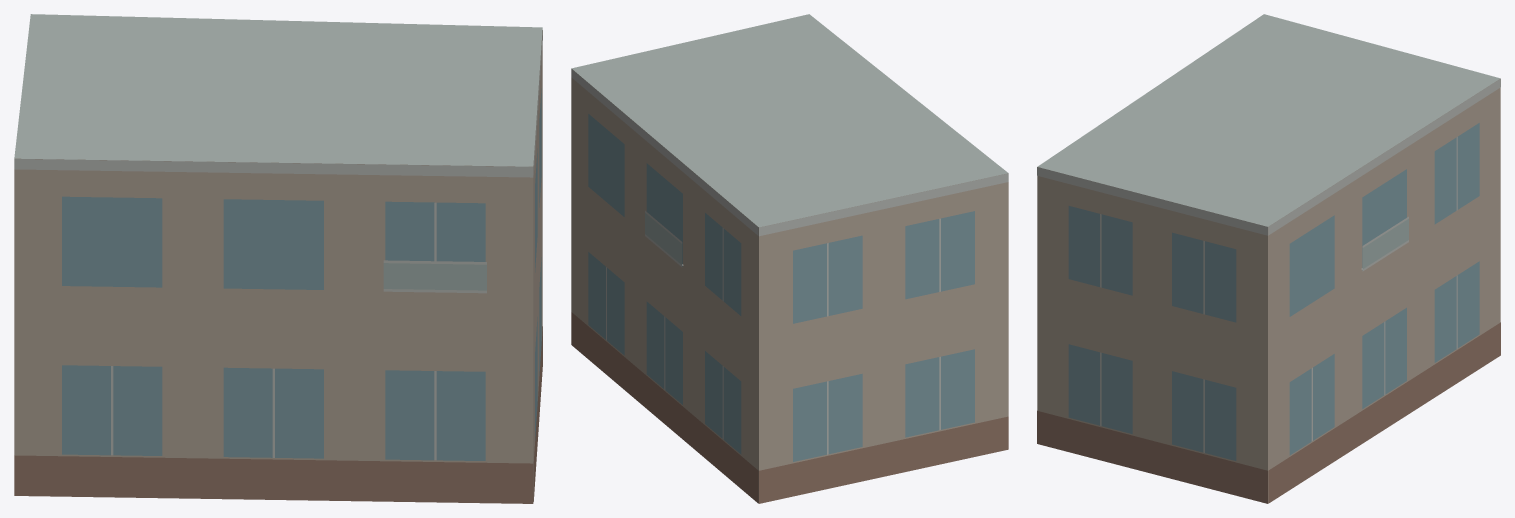
The model's file is survey-upis-33034826.glb.
3 views of the same model, side by side, from view 1: azimuth 30°, elevation 25°; view 2: azimuth 150°, elevation 25°; view 3: azimuth 270°, elevation 25° (orthographic). The views are drawn at different scales.
Visible parts, largest first — view 1: survey-upis-33034826.tmp; view 2: survey-upis-33034826.tmp; view 3: survey-upis-33034826.tmp.
Part boxes in pixels (x1,y1,x2,y2): survey-upis-33034826.tmp: [14, 14, 542, 503]; survey-upis-33034826.tmp: [571, 14, 1008, 503]; survey-upis-33034826.tmp: [1037, 14, 1500, 503].
Bounding box in the file's own units: 12.53 × 7.6 × 11.54.
